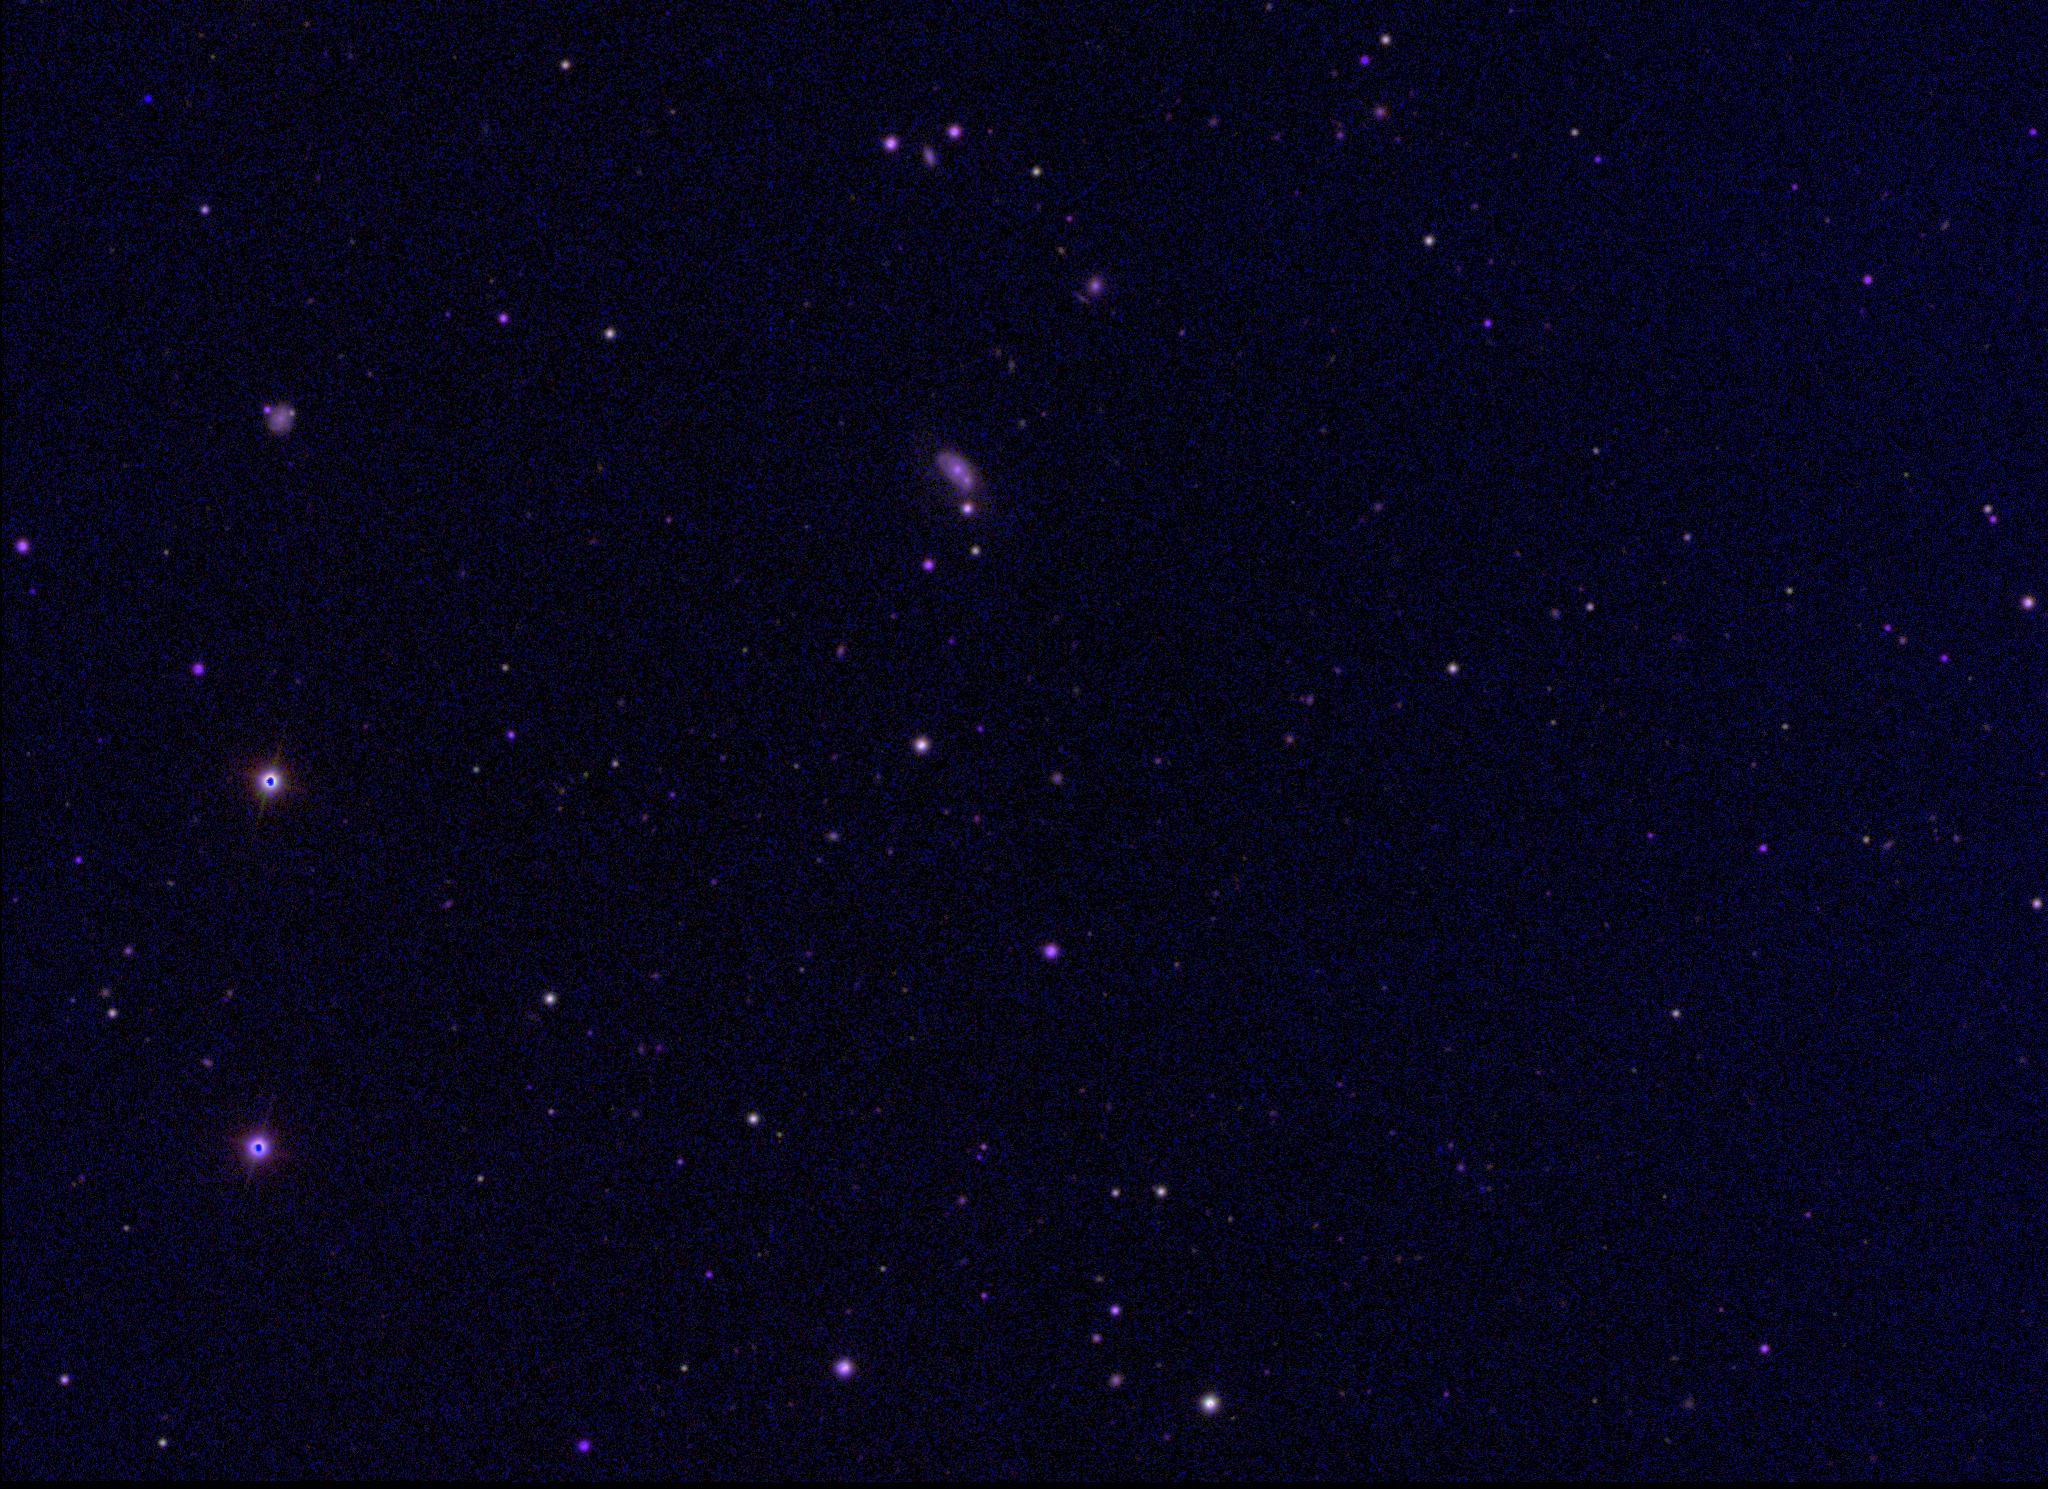L: (143, 91, 157, 103)
